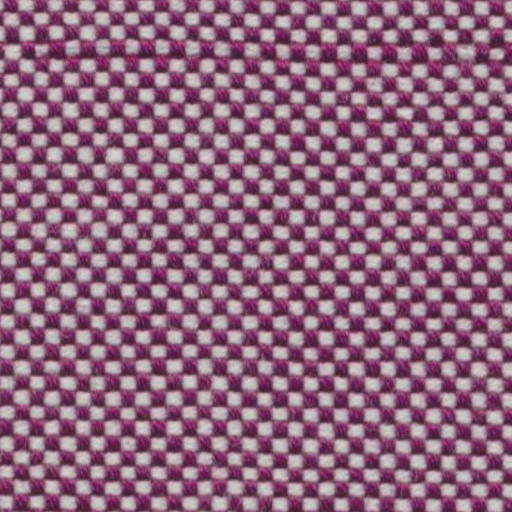TuoSha: (8, 26, 494, 86)
